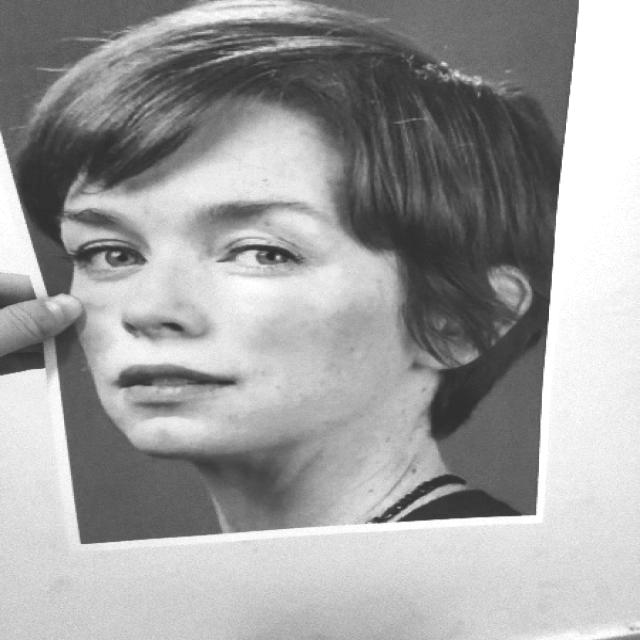fake: (0, 0, 580, 560)
